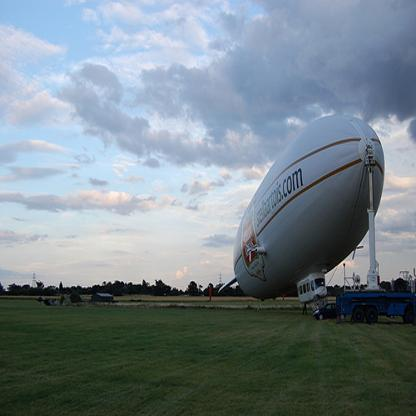Airship: (231, 112, 385, 311)
